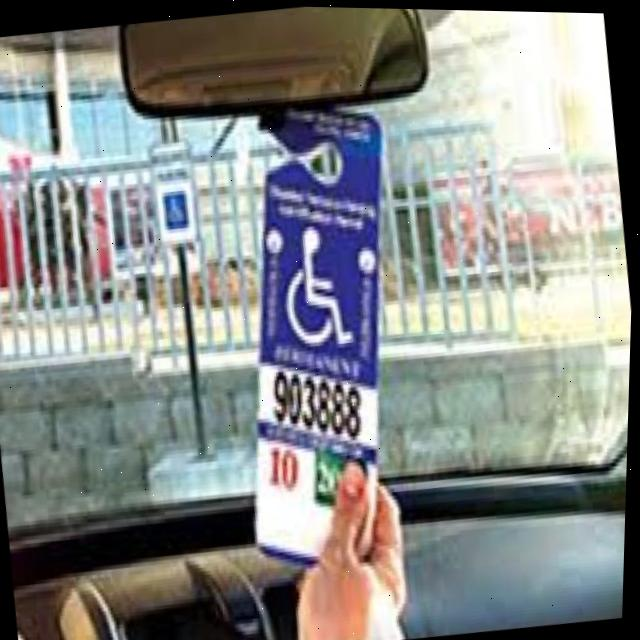symbol_of_access: (276, 216, 363, 354), (162, 192, 192, 233)
